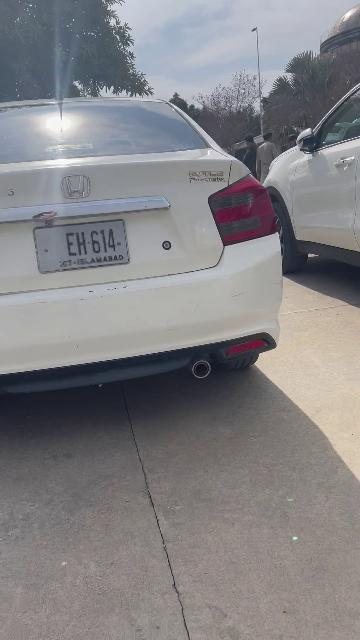plate: (33, 220, 130, 273)
